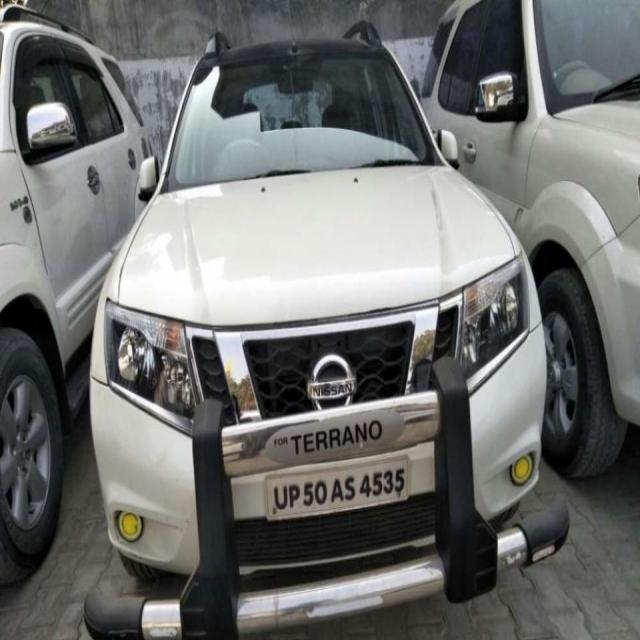license-plate: (264, 454, 408, 520)
